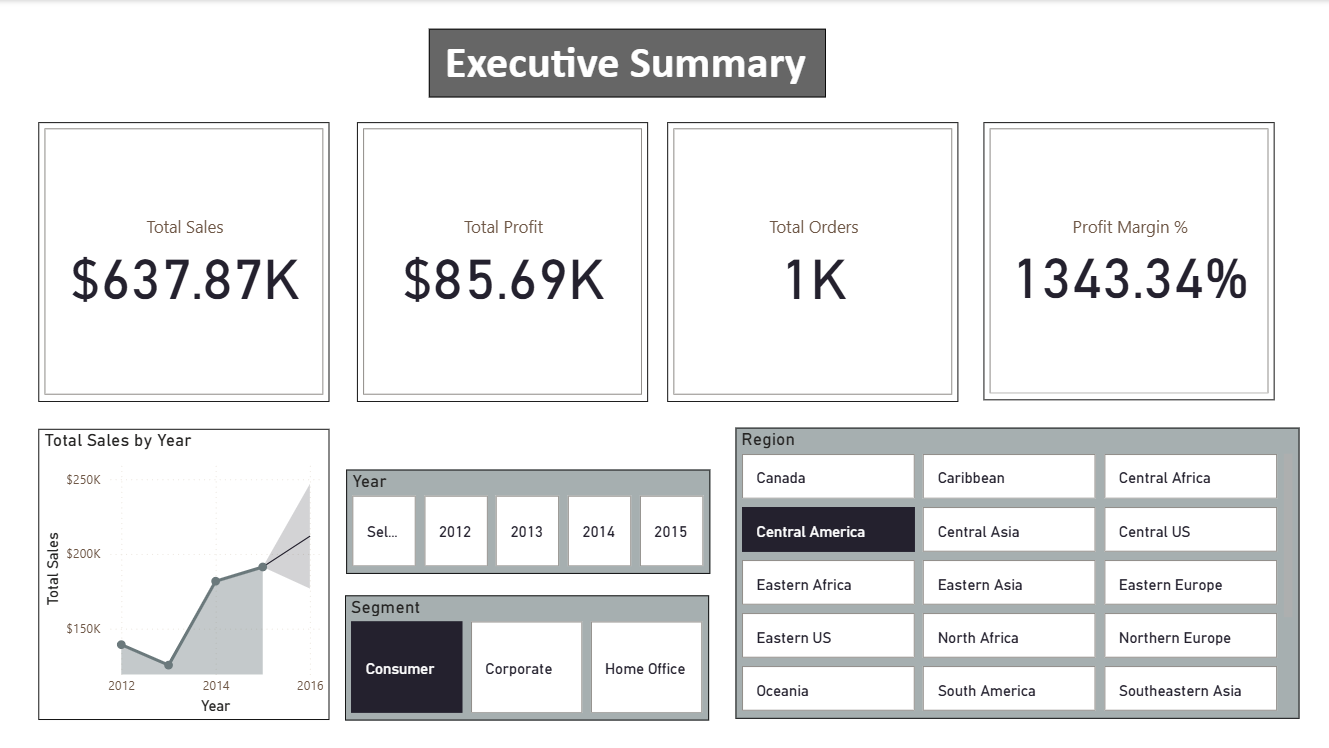

The dashboard page shown, as its layout file describes it:
{"tool":"powerbi","page":{"name":"Executive Summary","canvas":[1280,720],"ordinal":0},"visuals":[{"type":"cardVisual","fields":{"Data":["Orders.Total Sales"]},"box":[37.1,117.1,280,268.6],"z":0},{"type":"cardVisual","fields":{"Data":["Orders.Total Profit"]},"box":[342.9,117.1,280,268.6],"z":1000},{"type":"cardVisual","fields":{"Data":["Orders.Total Orders"]},"box":[641.4,117.1,280,268.6],"z":2000},{"type":"cardVisual","fields":{"Data":["Orders.Profit Margin %"]},"box":[944.3,117.1,280,267.1],"z":3000},{"type":"lineChart","fields":{"Category":["Orders.Order Date.Variation.Date Hierarchy.Year","Orders.Order Date.Variation.Date Hierarchy.Quarter","Orders.Order Date.Variation.Date Hierarchy.Month","Orders.Order Date.Variation.Date Hierarchy.Day"],"Y":["Orders.Total Sales"]},"box":[37.1,411.4,280,280],"z":4000},{"type":"advancedSlicerVisual","fields":{"Values":["Orders.Order Date.Variation.Date Hierarchy.Year"]},"box":[332.9,451.4,350,100],"z":5000},{"type":"advancedSlicerVisual","fields":{"Values":["Orders.Region"]},"box":[706.9,411.3,541.4,280],"z":6000},{"type":"advancedSlicerVisual","fields":{"Values":["Orders.Segment"]},"box":[331.4,571.4,350,120],"z":7000},{"type":"textbox","box":[411.4,27.1,381.4,65.7],"z":8000}]}

Visuals, with their boxes in screenshot pixels (x1, y1, x2, y2), scaled from the page's 1280x720 canvas onto the 1329x748 screenshot:
cardVisual - Orders.Total Sales: locate(39, 122, 329, 401)
cardVisual - Orders.Total Profit: locate(356, 122, 647, 401)
cardVisual - Orders.Total Orders: locate(666, 122, 957, 401)
cardVisual - Orders.Profit Margin %: locate(980, 122, 1271, 399)
lineChart - Orders.Order Date.Variation.Date Hierarchy.Year x Orders.Order Date.Variation.Date Hierarchy.Quarter: locate(39, 427, 329, 718)
advancedSlicerVisual - Orders.Order Date.Variation.Date Hierarchy.Year: locate(346, 469, 709, 573)
advancedSlicerVisual - Orders.Region: locate(734, 427, 1296, 718)
advancedSlicerVisual - Orders.Segment: locate(344, 594, 707, 718)
textbox: locate(427, 28, 823, 96)
